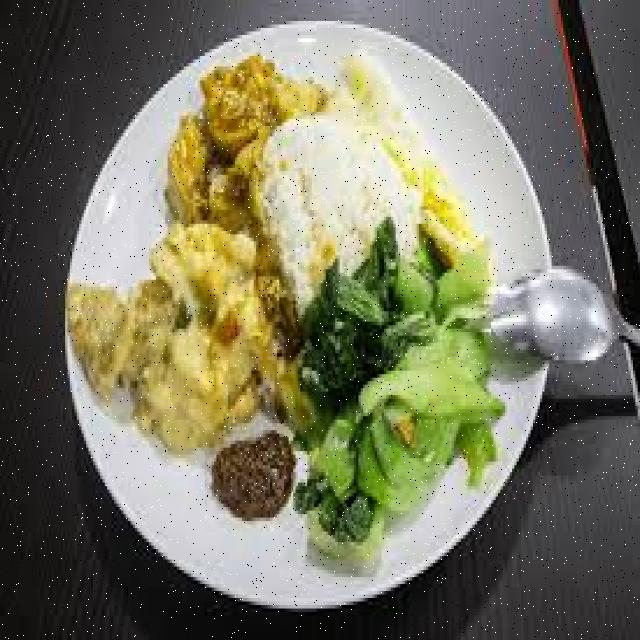Chicken: (70, 224, 303, 451)
Egg: (328, 52, 479, 262)
Green veg: (293, 220, 503, 556)
Rice: (261, 119, 414, 308)
Tofu: (165, 56, 328, 227)
